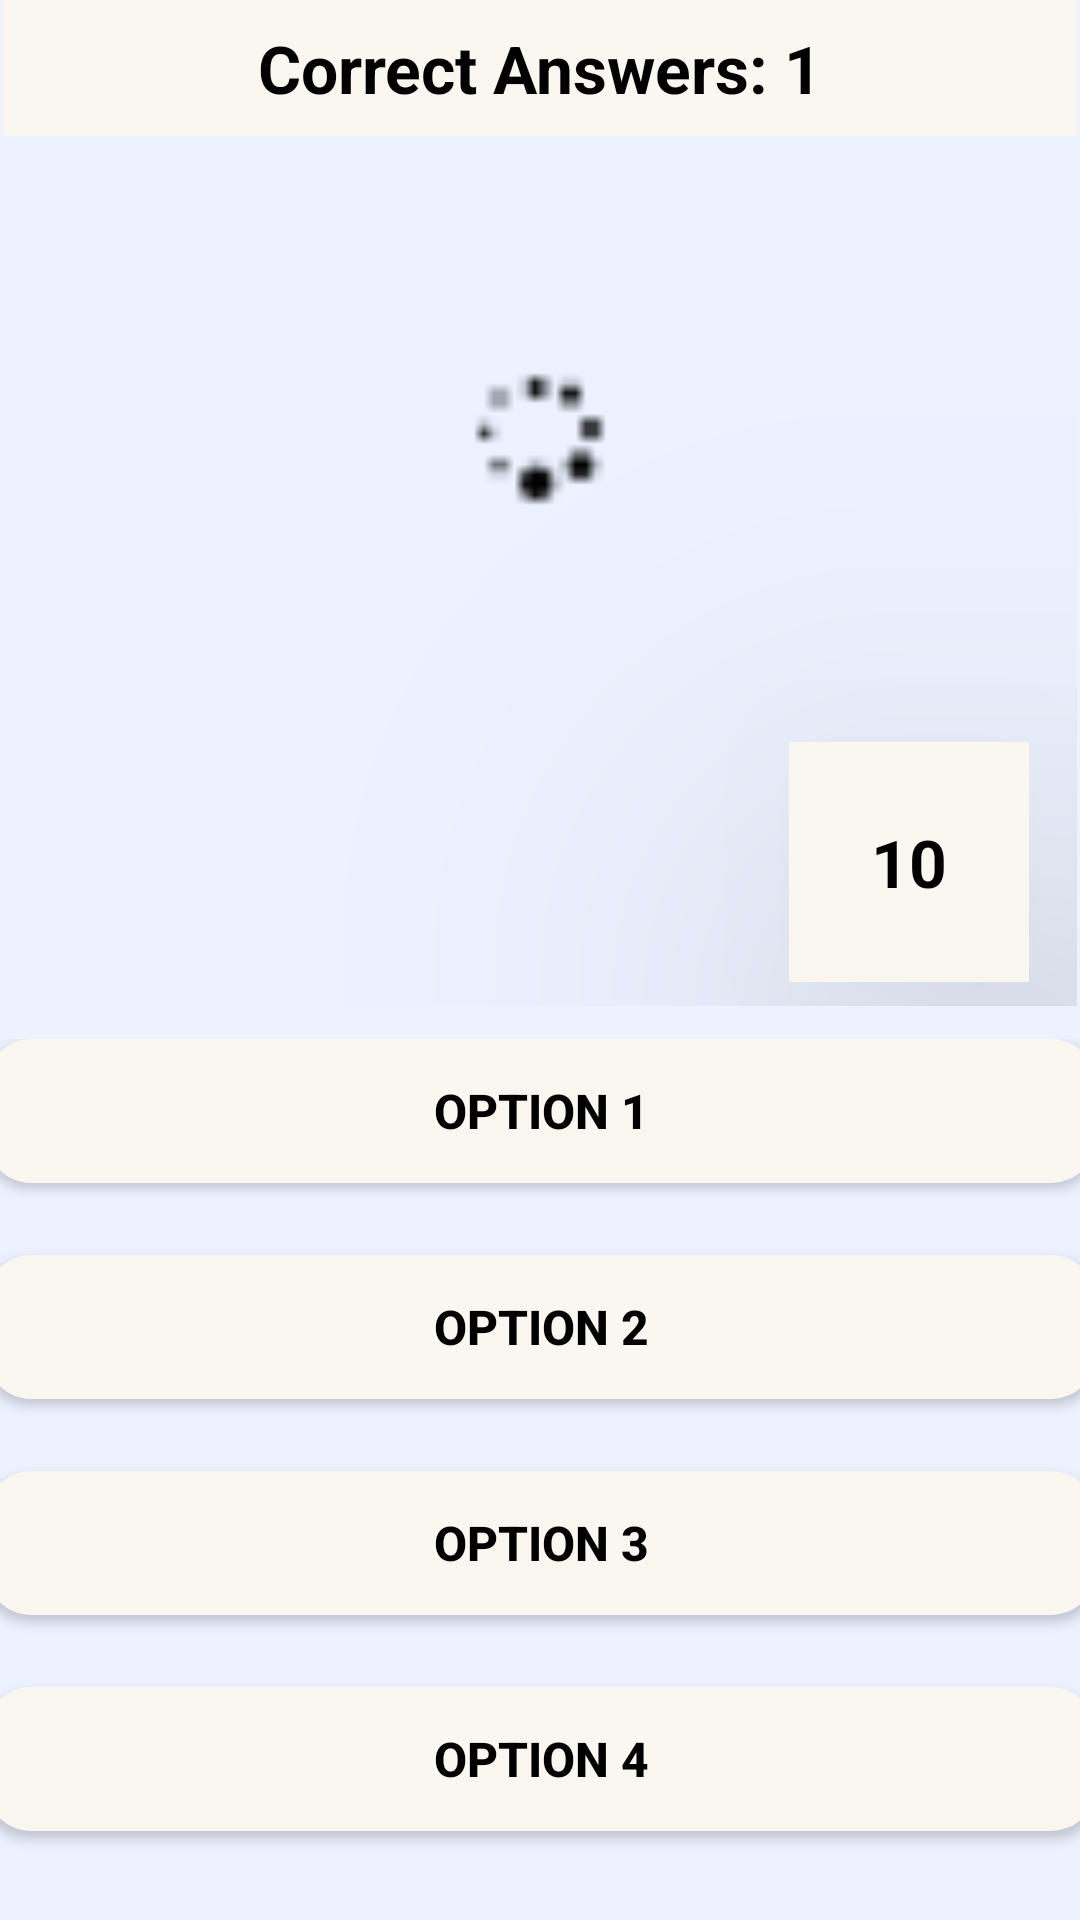

Point at icon controls on the screen. Image size 1080*1920, points as (x,y).
loading: (540,439)
